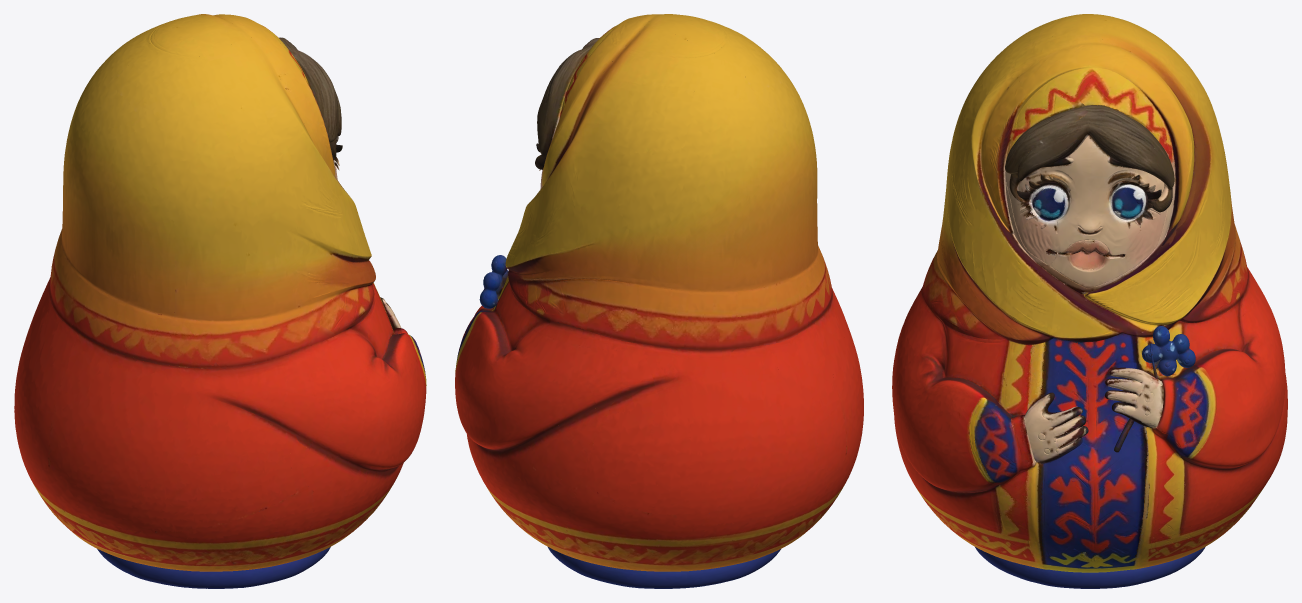
Rendered from matryoshka.glb.
3 views of the same model, side by side, from view 1: azimuth 30°, elevation 25°; view 2: azimuth 150°, elevation 25°; view 3: azimuth 270°, elevation 25° (orthographic).
Visible parts, largest first — view 1: tripo_part_2, tripo_part_3, tripo_part_0, tripo_part_4, tripo_part_28, tripo_part_21, tripo_part_37, tripo_part_8, tripo_part_7, tripo_part_29, tripo_part_22, tripo_part_51 (+8 smaller); view 2: tripo_part_0, tripo_part_3, tripo_part_26, tripo_part_6, tripo_part_9, tripo_part_16, tripo_part_7, tripo_part_22, tripo_part_11, tripo_part_1, tripo_part_2, tripo_part_5 (+5 smaller); view 3: tripo_part_2, tripo_part_0, tripo_part_4, tripo_part_15, tripo_part_9, tripo_part_8, tripo_part_14, tripo_part_7, tripo_part_11, tripo_part_30, tripo_part_5, tripo_part_1 (+41 smaller).
Part boxes in pixels (x1,y1,x2,y2): tripo_part_2: (112, 18, 371, 323); tripo_part_3: (15, 316, 296, 542); tripo_part_0: (61, 14, 222, 316); tripo_part_4: (186, 328, 426, 471); tripo_part_28: (188, 431, 322, 571); tripo_part_21: (208, 260, 375, 368); tripo_part_37: (71, 274, 179, 366); tripo_part_8: (232, 21, 338, 176); tripo_part_7: (60, 312, 233, 571); tripo_part_29: (303, 452, 403, 533); tripo_part_22: (25, 300, 77, 469); tripo_part_51: (54, 333, 182, 411); tripo_part_0: (505, 26, 818, 292); tripo_part_3: (564, 291, 863, 571); tripo_part_26: (580, 404, 789, 528); tripo_part_6: (508, 270, 808, 349); tripo_part_9: (455, 308, 626, 450); tripo_part_16: (609, 343, 782, 417); tripo_part_7: (467, 402, 844, 540); tripo_part_22: (765, 320, 846, 471); tripo_part_11: (542, 21, 647, 186); tripo_part_1: (548, 547, 780, 588); tripo_part_2: (495, 14, 808, 306); tripo_part_5: (535, 44, 593, 169); tripo_part_2: (937, 17, 1184, 372); tripo_part_0: (1084, 15, 1235, 327); tripo_part_4: (892, 287, 1020, 493); tripo_part_15: (1005, 135, 1175, 294); tripo_part_9: (1180, 275, 1285, 469); tripo_part_8: (981, 42, 1132, 233); tripo_part_14: (1040, 423, 1145, 558); tripo_part_7: (1157, 373, 1287, 530); tripo_part_11: (1090, 41, 1194, 230); tripo_part_30: (1044, 333, 1136, 427); tripo_part_5: (1084, 105, 1174, 212); tripo_part_1: (975, 530, 1205, 588).
Bounding box in the file's own units: 0.7043 × 1 × 0.7025.
Materials: 77 (77 with a texture image).
